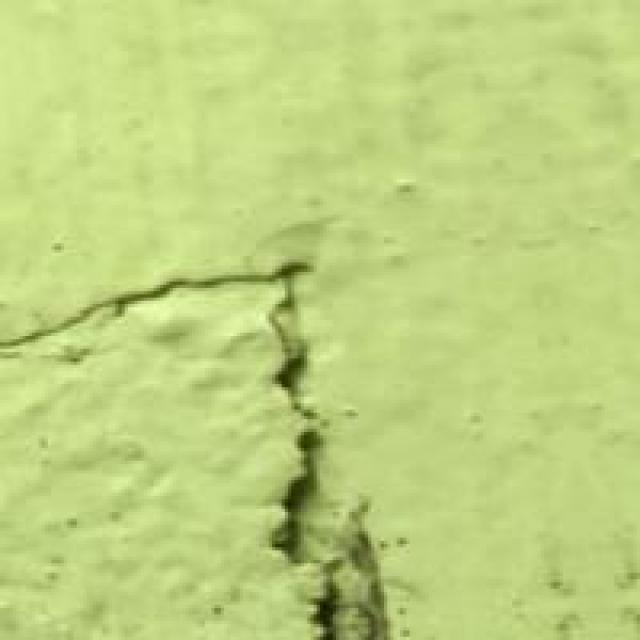Crack: (19, 224, 387, 627)
